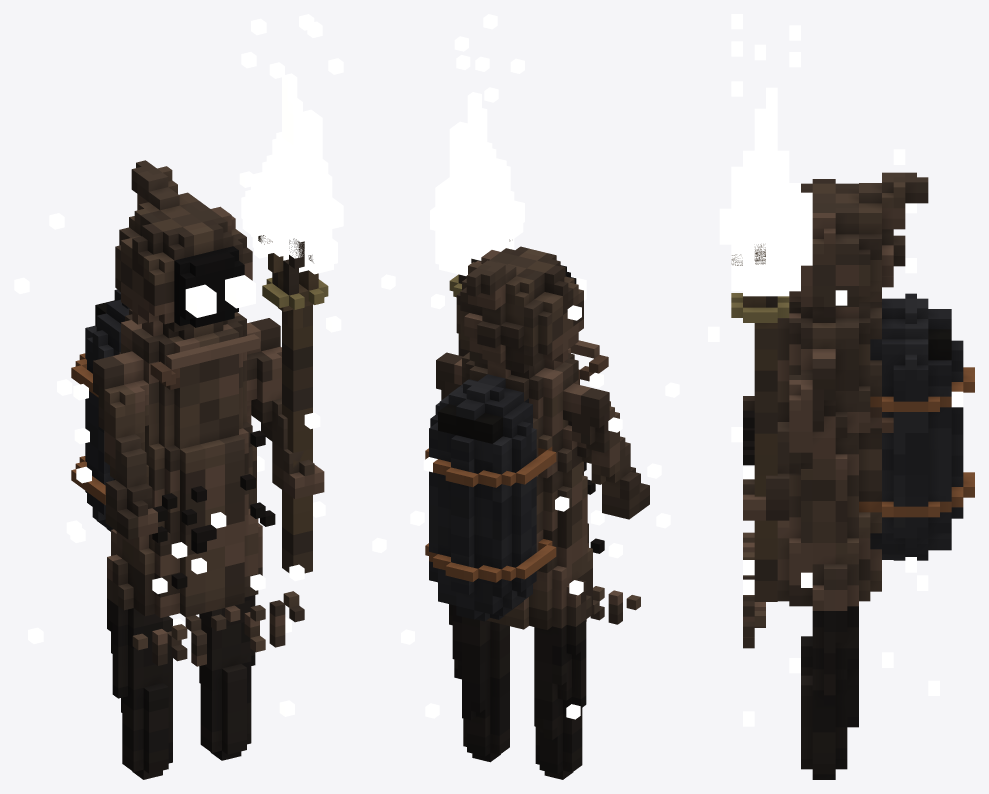
The model's file is u_brule_haie.glb.
3 views of the same model, side by side, from view 1: azimuth 30°, elevation 25°; view 2: azimuth 150°, elevation 25°; view 3: azimuth 270°, elevation 25° (orthographic). The views are drawn at different scales.
Visible parts, largest first — view 1: brule_haie_body, brule_haie_weaponglow, brule_haie_weapon, brule_haie_glow; view 2: brule_haie_body, brule_haie_weaponglow, brule_haie_glow; view 3: brule_haie_body, brule_haie_weaponglow, brule_haie_weapon, brule_haie_glow.
Part boxes in pixels (x1,y1,x2,y2): brule_haie_body: [71, 160, 324, 779]; brule_haie_weaponglow: [241, 14, 343, 274]; brule_haie_weapon: [258, 235, 328, 573]; brule_haie_glow: [14, 171, 341, 716]; brule_haie_body: [425, 246, 649, 779]; brule_haie_weaponglow: [430, 14, 524, 275]; brule_haie_glow: [372, 274, 679, 719]; brule_haie_body: [743, 172, 974, 779]; brule_haie_weaponglow: [719, 14, 812, 296]; brule_haie_weapon: [731, 244, 789, 601]; brule_haie_glow: [708, 149, 963, 726].
Bounding box in the file's own units: 0.7 × 1.85 × 0.575.
